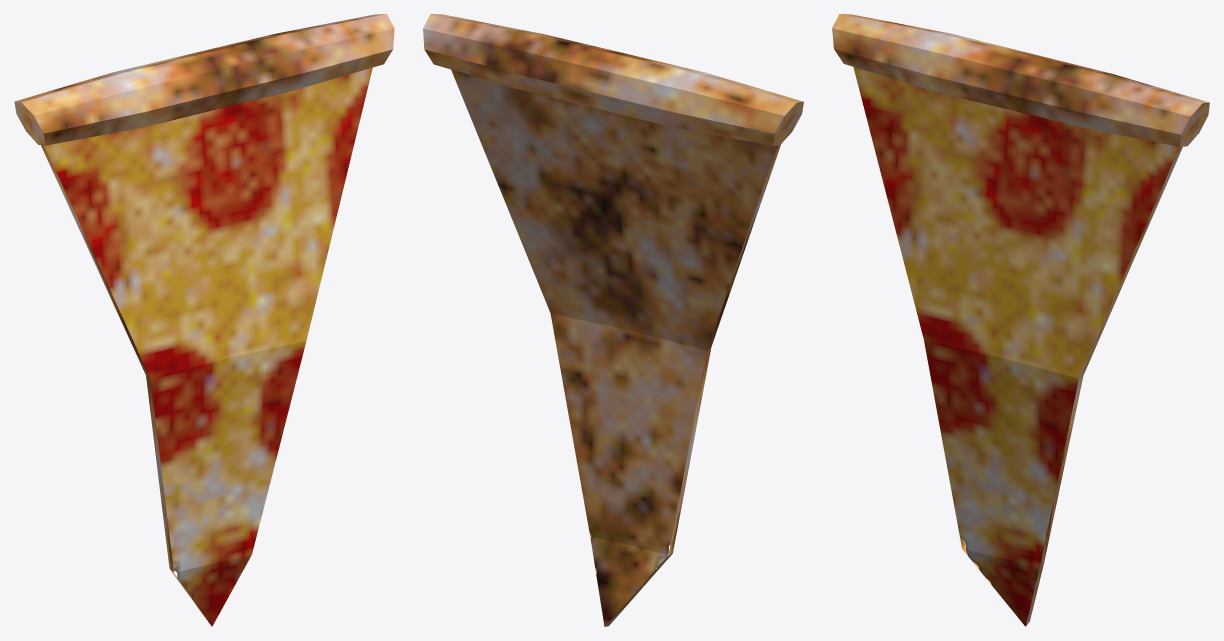
Rendered from pizza.fbx.
3 renders of one model, left to right at view 1: azimuth 30°, elevation 25°; view 2: azimuth 150°, elevation 25°; view 3: azimuth 330°, elevation 25°, orthographic.
Parts seen in each view (by area): view 1: Pizza; view 2: Pizza; view 3: Pizza.
Boxes of the visible parts, left/top/right/bottom form: Pizza: left=14, top=14, right=394, bottom=626; Pizza: left=423, top=14, right=803, bottom=626; Pizza: left=832, top=14, right=1209, bottom=626.
Bounding box in the file's own units: 8.99 × 13.5 × 1.63.
